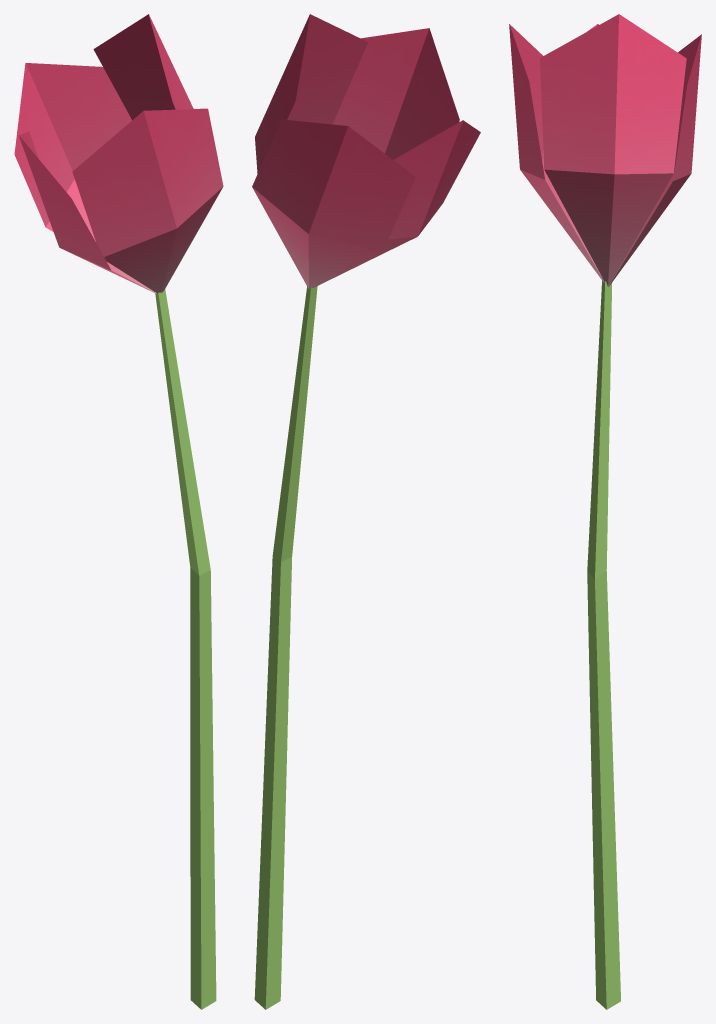
Rendered from Flower_f_TwoS_01.fbx.
3 views of the same model, side by side, from view 1: azimuth 30°, elevation 25°; view 2: azimuth 150°, elevation 25°; view 3: azimuth 270°, elevation 25° (orthographic). The views are drawn at different scales.
Visible parts, largest first — view 1: Flower_f_TwoS_01; view 2: Flower_f_TwoS_01; view 3: Flower_f_TwoS_01.
Boxes of the visible parts, x1,y1,x2,y2 form: Flower_f_TwoS_01: [14, 14, 223, 1009]; Flower_f_TwoS_01: [252, 14, 480, 1009]; Flower_f_TwoS_01: [509, 14, 701, 1009].
Size of the model in its own units: 0.1351 by 0.6362 by 0.115.
